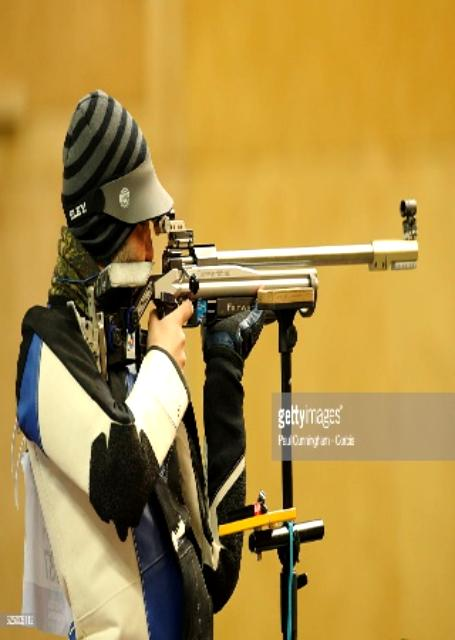rifle: (86, 190, 424, 360)
